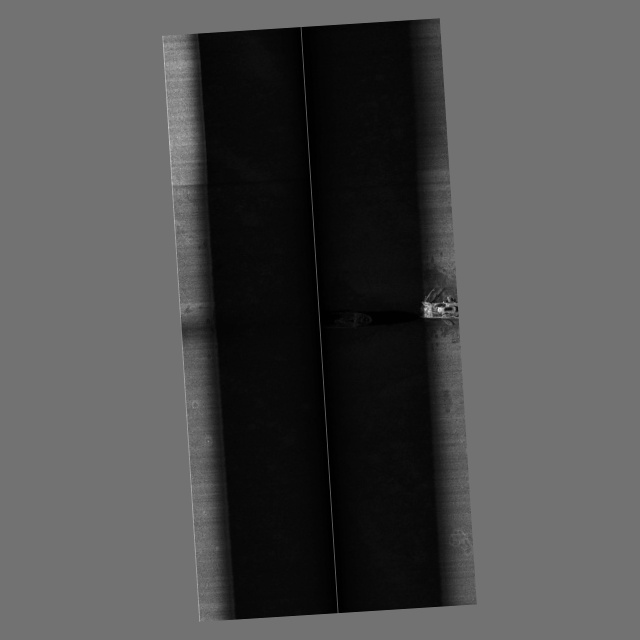Shipwreck: (318, 287, 459, 334)
